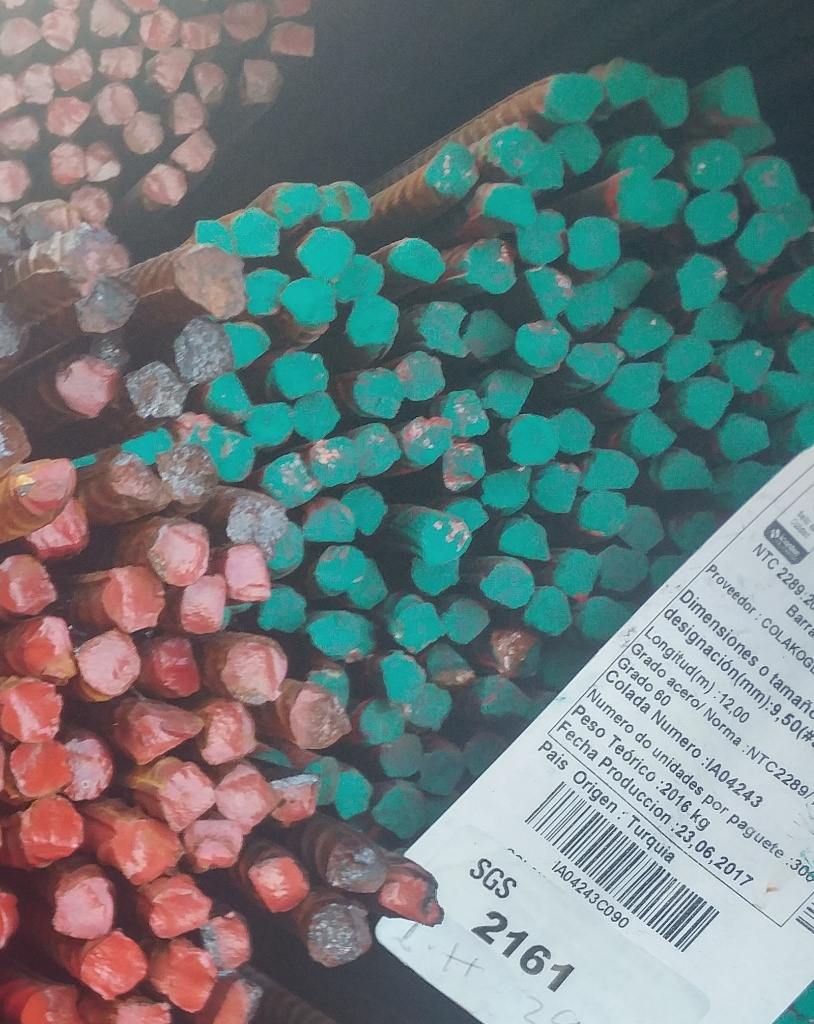dipstick: (165, 245, 251, 318), (146, 936, 220, 1013), (92, 560, 169, 630), (136, 872, 216, 939), (120, 700, 202, 765), (53, 865, 123, 941), (105, 818, 186, 883), (70, 269, 146, 337), (2, 616, 79, 682), (75, 931, 147, 1001), (3, 456, 75, 526), (74, 625, 142, 699), (15, 795, 89, 862), (303, 898, 373, 968), (54, 223, 134, 284), (138, 632, 211, 697), (384, 856, 447, 929), (140, 516, 207, 584), (100, 447, 172, 510), (247, 851, 316, 916), (51, 355, 121, 419), (318, 827, 386, 891), (121, 359, 194, 417), (223, 635, 287, 701), (158, 763, 217, 834), (173, 316, 236, 382), (3, 676, 66, 742), (313, 605, 381, 665), (33, 494, 101, 552), (293, 686, 355, 748), (198, 913, 260, 975), (157, 441, 220, 502), (409, 294, 468, 358), (200, 700, 260, 762), (6, 739, 72, 795), (302, 434, 374, 485), (185, 815, 246, 875), (228, 489, 286, 552), (487, 625, 550, 683), (420, 141, 484, 198), (462, 232, 518, 296), (260, 450, 323, 506), (291, 223, 355, 278), (259, 177, 330, 226), (3, 553, 60, 614), (389, 591, 445, 653), (372, 781, 434, 837), (568, 214, 623, 276), (216, 764, 271, 826), (350, 421, 408, 479), (716, 338, 775, 395), (66, 732, 116, 799), (494, 511, 558, 563), (686, 192, 744, 249), (742, 155, 801, 211), (675, 376, 736, 430), (500, 411, 561, 465), (214, 542, 270, 600), (242, 397, 303, 450), (179, 572, 231, 634), (195, 978, 265, 1024), (334, 480, 391, 536), (351, 367, 406, 425), (545, 69, 603, 124), (278, 274, 338, 327), (199, 371, 262, 421), (347, 294, 402, 351), (515, 317, 572, 372), (478, 559, 536, 613), (654, 444, 715, 495), (238, 263, 295, 317), (477, 366, 534, 420), (384, 237, 448, 285), (594, 542, 653, 594), (676, 250, 727, 310), (614, 304, 675, 354), (397, 414, 458, 464), (738, 207, 787, 269), (435, 389, 493, 441), (416, 511, 475, 562), (375, 648, 426, 707), (268, 771, 325, 823), (485, 124, 543, 175), (274, 350, 333, 400), (473, 670, 533, 719), (563, 339, 625, 386), (616, 131, 679, 177), (394, 351, 449, 403), (523, 582, 575, 637), (229, 207, 285, 258), (547, 124, 603, 175), (620, 408, 677, 458), (319, 177, 377, 226), (607, 362, 665, 411), (478, 183, 539, 229), (440, 594, 495, 645), (218, 315, 274, 365), (720, 413, 778, 461), (468, 309, 519, 363), (532, 464, 583, 518), (606, 173, 661, 223), (720, 63, 765, 124), (587, 446, 643, 495), (440, 442, 492, 494), (567, 278, 618, 331), (551, 548, 602, 601), (332, 254, 386, 304), (518, 210, 567, 265), (316, 544, 367, 596), (481, 466, 534, 516), (551, 403, 600, 457), (290, 393, 344, 442), (689, 141, 744, 189), (305, 498, 356, 549), (354, 695, 406, 745), (259, 581, 307, 635), (407, 555, 470, 596), (658, 329, 715, 374), (609, 259, 659, 310), (526, 267, 573, 321), (415, 744, 465, 794), (217, 426, 260, 484), (602, 57, 649, 110), (692, 297, 746, 343), (648, 71, 690, 129), (301, 750, 345, 805), (266, 518, 306, 578), (461, 726, 511, 774), (91, 79, 142, 125), (579, 595, 633, 638), (16, 196, 71, 238), (619, 501, 664, 552), (334, 763, 375, 818), (581, 488, 627, 537), (439, 492, 493, 533), (761, 366, 808, 413), (647, 180, 693, 228), (51, 46, 97, 94), (241, 57, 288, 103), (138, 162, 187, 206), (136, 6, 183, 51), (172, 128, 221, 171), (266, 19, 316, 61), (187, 212, 239, 252), (122, 111, 168, 156), (44, 96, 92, 139), (83, 136, 128, 181), (309, 661, 356, 704), (149, 46, 194, 90), (66, 183, 113, 225), (427, 642, 475, 683), (186, 415, 226, 464), (728, 117, 779, 155), (378, 729, 420, 775), (98, 43, 146, 83), (171, 91, 209, 138), (223, 1, 267, 41), (85, 334, 135, 369), (46, 139, 83, 186), (38, 6, 78, 49), (178, 13, 221, 52), (1, 15, 40, 57), (193, 59, 230, 102), (90, 3, 133, 40), (18, 64, 58, 103), (1, 157, 34, 203), (2, 115, 43, 152)
